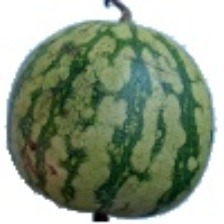watermelon: (10, 3, 186, 194)
